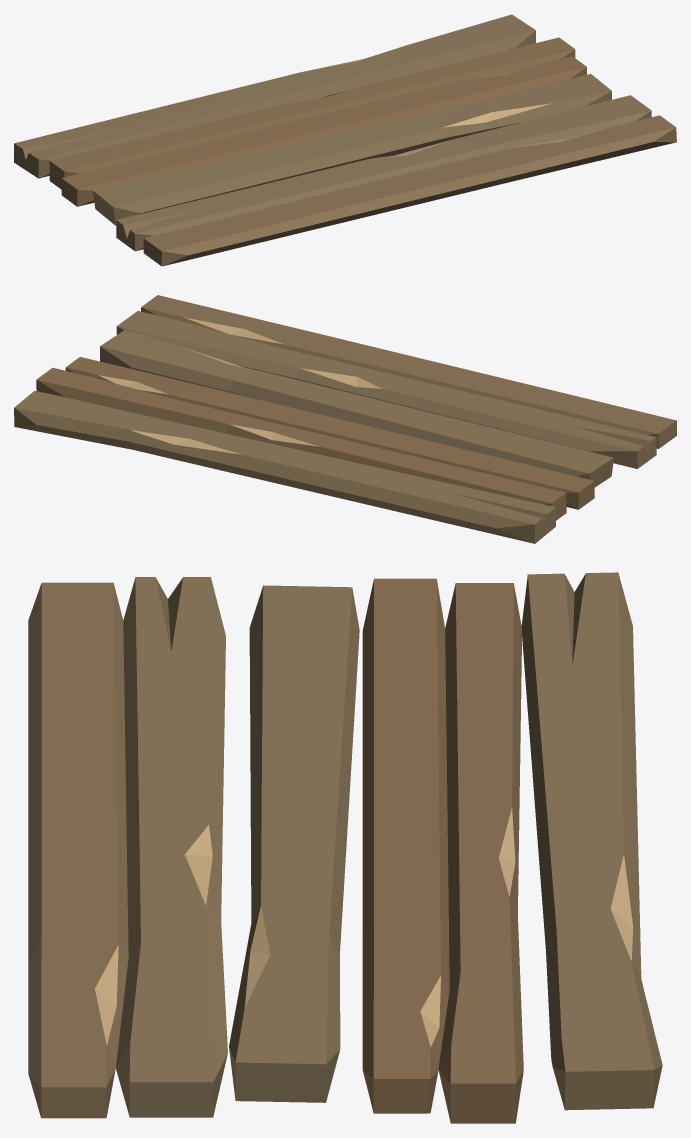
File: rpgpp_ag_wall_platform_01e_4m.fbx
3 views of the same model, one above another, from view 1: azimuth 30°, elevation 25°; view 2: azimuth 150°, elevation 25°; view 3: azimuth 270°, elevation 25° (orthographic). The views are drawn at different scales.
Parts seen in each view (by area): view 1: rpgpp_ag_wall_platform_01e_4m; view 2: rpgpp_ag_wall_platform_01e_4m; view 3: rpgpp_ag_wall_platform_01e_4m.
Boxes of the visible parts, x1,y1,x2,y2 form: rpgpp_ag_wall_platform_01e_4m: (14, 14, 676, 266); rpgpp_ag_wall_platform_01e_4m: (14, 295, 676, 543); rpgpp_ag_wall_platform_01e_4m: (28, 572, 662, 1123).
Size of the model in its own units: 4.02 by 0.1646 by 2.12.
